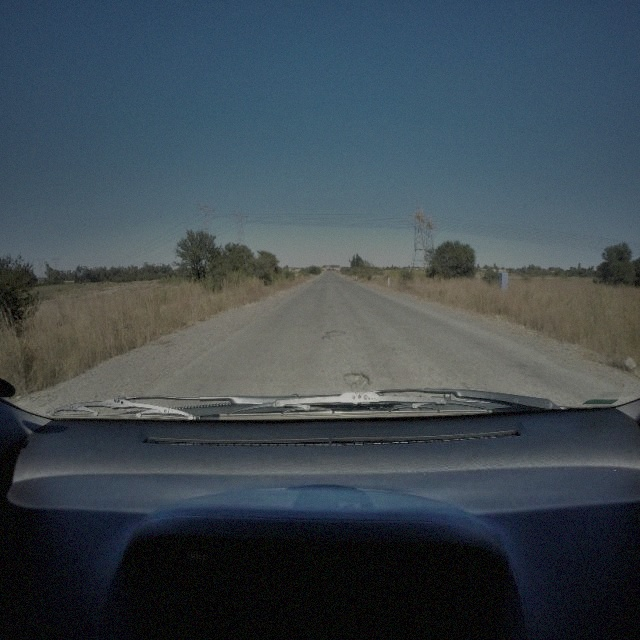pothole: (342, 368, 370, 388), (320, 328, 342, 340)
